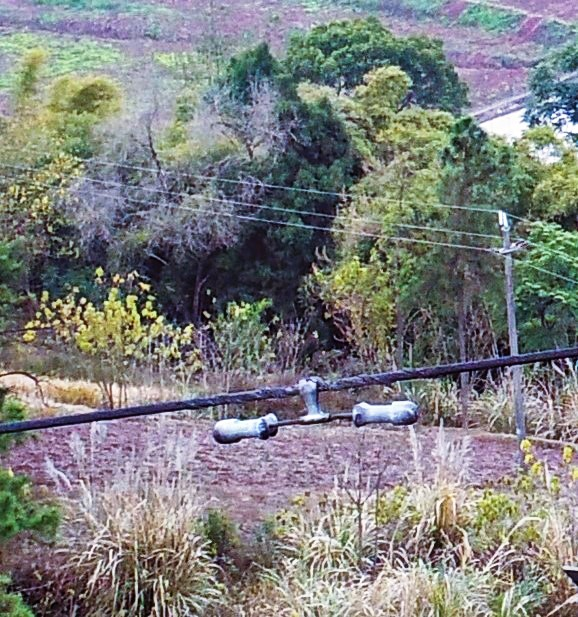Shockproof hammer: (205, 361, 424, 446)
